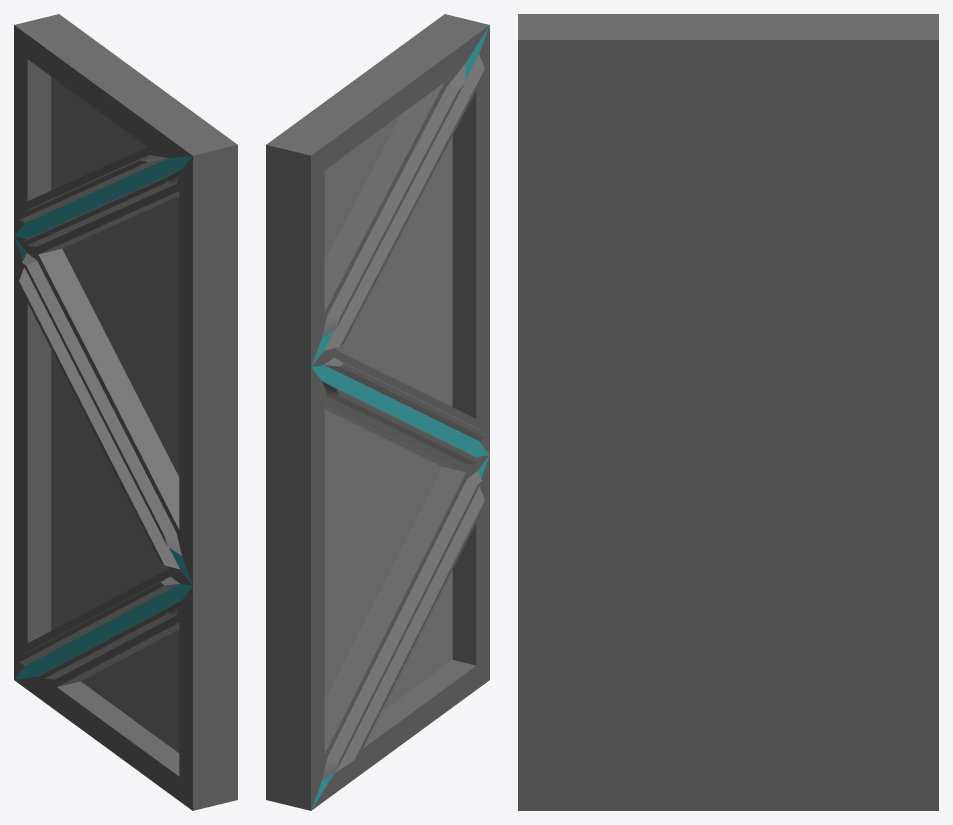
The picture shows the model from 3 angles, left to right: view 1: azimuth 30°, elevation 25°; view 2: azimuth 150°, elevation 25°; view 3: azimuth 270°, elevation 25°; orthographic projection. The views are drawn at different scales.
Visible parts, largest first — view 1: SM_B3_D_SM_B3_D; view 2: SM_B3_D_SM_B3_D; view 3: SM_B3_D_SM_B3_D.
Part boxes in pixels (bbox=[...]): SM_B3_D_SM_B3_D: bbox=[14, 14, 237, 810]; SM_B3_D_SM_B3_D: bbox=[266, 14, 489, 810]; SM_B3_D_SM_B3_D: bbox=[518, 14, 938, 810].
Bounding box in the file's own units: 21.72 × 121 × 245.
1 material, 1 textured.
